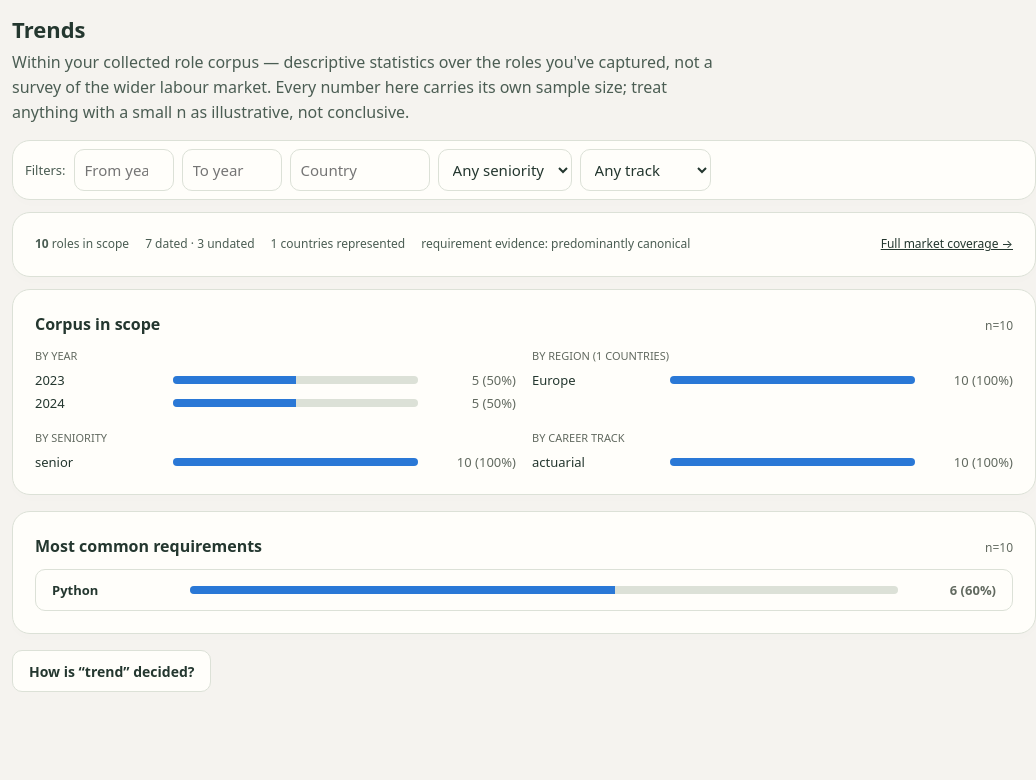
Trends — Phase 8 coverage context › shows evidence_depth on a selected requirement trend without altering its classification label
Click the text "Python".
click(75, 590)  # box [52, 581, 98, 599]
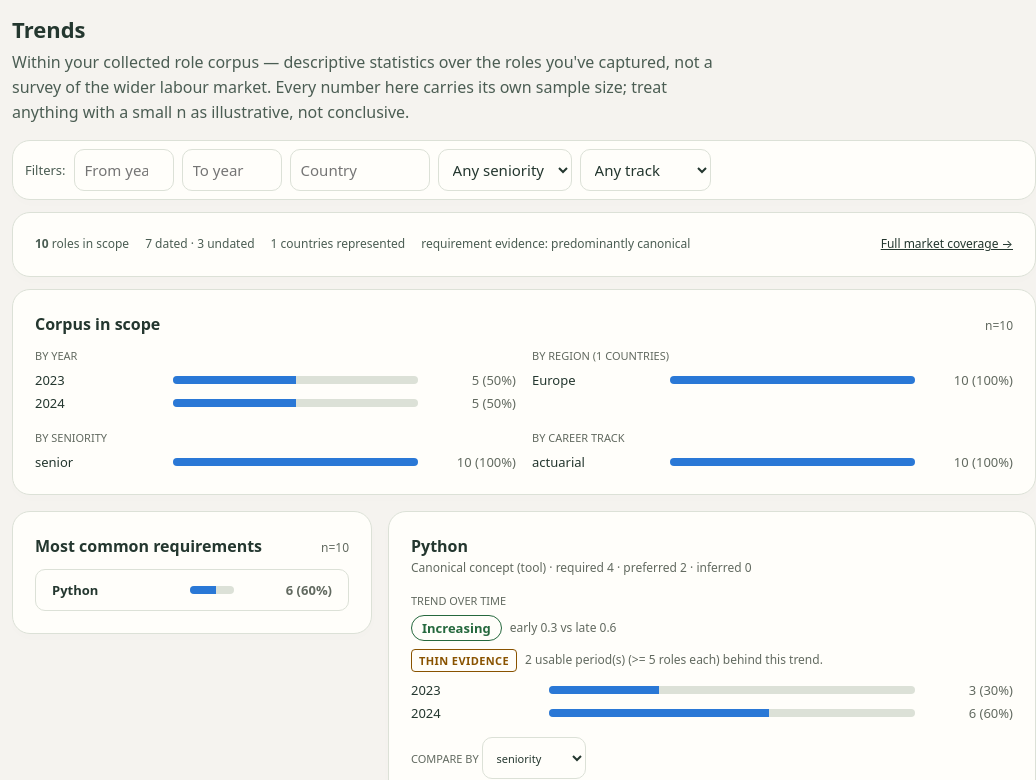
Result: the text "Increasing" is shown at [411, 615, 502, 641]
Result: the text "Thin evidence" is shown at [411, 649, 517, 672]
